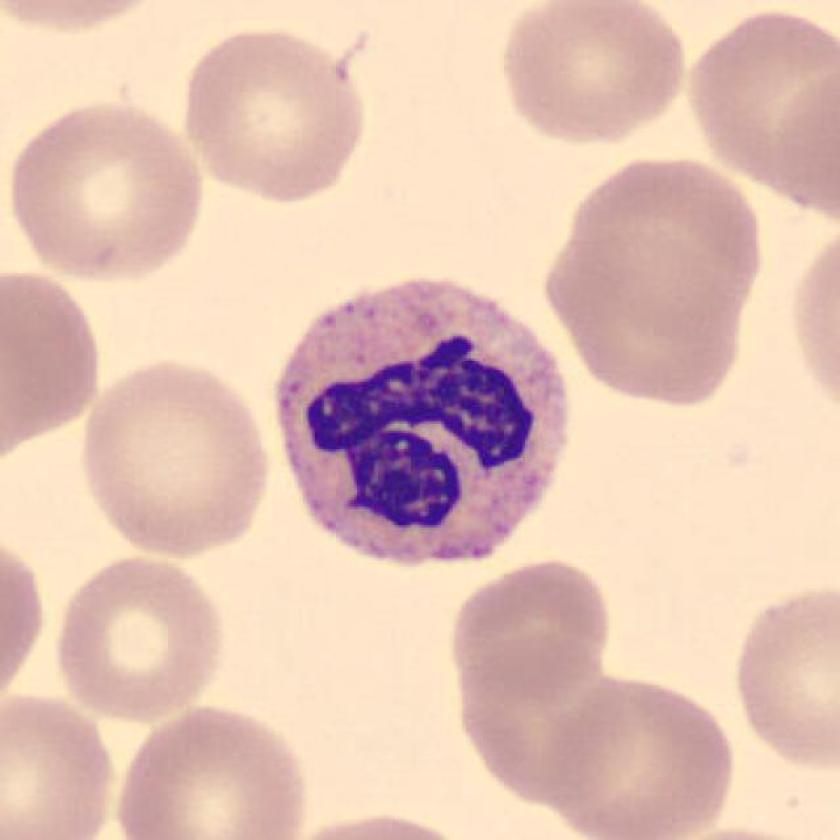neutrophil: (277, 281, 567, 566)
